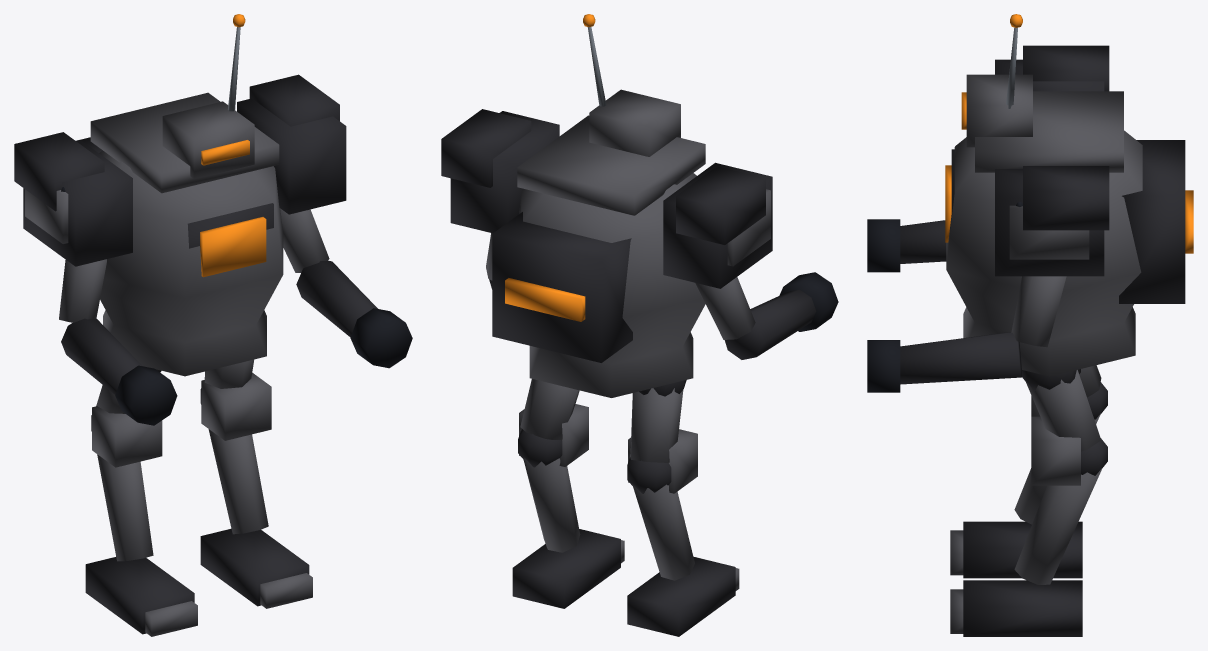
File: unit_mecha_walker.obj
3 renders of one model, left to right at view 1: azimuth 30°, elevation 25°; view 2: azimuth 150°, elevation 25°; view 3: azimuth 270°, elevation 25°, orthographic. The views are drawn at different scales.
Visible parts, largest first — view 1: Hull, ShoulderPod_1, RoofPlate, ShoulderPod_-1, Foot_-1, Foot_1, Head, MissileBox_-1, Shin_-1, Shin_1, KneeGuard_1, ArmCannon_-1 (+14 smaller); view 2: Hull, BackPack, RoofPlate, Foot_-1, Foot_1, MissileBox_-1, ShoulderPod_1, Head, ShoulderPod_-1, MissileBox_1, Shin_-1, Shin_1 (+11 smaller); view 3: Hull, RoofPlate, BackPack, Foot_1, MissileBox_1, ArmCannon_1, Shin_1, Foot_-1, ShoulderPod_1, Head, MissileBox_-1, Thigh_1 (+16 smaller).
Part boxes in pixels (<box>): Hull: <box>99,150,283,376</box>; ShoulderPod_1: <box>237,98,346,214</box>; RoofPlate: <box>90,92,279,193</box>; ShoulderPod_-1: <box>23,140,132,266</box>; Foot_-1: <box>85,557,194,634</box>; Foot_1: <box>200,528,309,606</box>; Head: <box>162,101,254,179</box>; MissileBox_-1: <box>14,132,104,211</box>; Shin_-1: <box>97,454,153,561</box>; Shin_1: <box>208,429,268,534</box>; KneeGuard_1: <box>201,373,271,440</box>; ArmCannon_-1: <box>61,318,142,394</box>; Hull: <box>519,173,705,397</box>; BackPack: <box>492,212,632,362</box>; RoofPlate: <box>517,115,705,215</box>; Foot_-1: <box>627,556,735,636</box>; Foot_1: <box>512,529,620,608</box>; MissileBox_-1: <box>676,166,765,244</box>; ShoulderPod_1: <box>450,111,559,233</box>; Head: <box>589,89,680,156</box>; ShoulderPod_-1: <box>663,162,772,288</box>; MissileBox_1: <box>441,109,531,187</box>; Shin_-1: <box>632,484,694,580</box>; Shin_1: <box>523,458,580,552</box>; Hull: <box>946,130,1142,376</box>; RoofPlate: <box>975,91,1123,172</box>; BackPack: <box>1119,140,1185,303</box>; Foot_1: <box>963,580,1082,636</box>; MissileBox_1: <box>1023,166,1109,230</box>; ArmCannon_1: <box>900,332,1022,384</box>; Shin_1: <box>1014,468,1102,584</box>; Foot_-1: <box>963,521,1082,578</box>; ShoulderPod_1: <box>995,169,1104,276</box>; Head: <box>966,74,1032,147</box>; MissileBox_-1: <box>1023,45,1109,91</box>; Thigh_1: <box>1025,370,1100,451</box>.
Bounding box in the file's own units: 2.08 × 3.99 × 1.97.
